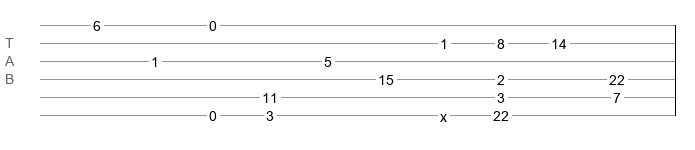0: (209, 108, 217, 118), (209, 18, 217, 28)
1: (151, 54, 159, 64), (440, 36, 448, 46)
11: (262, 90, 278, 100)
14: (551, 36, 567, 46)
15: (378, 72, 394, 82)
2: (497, 72, 505, 82)
22: (493, 108, 509, 118), (609, 72, 625, 82)
3: (266, 108, 274, 118), (497, 90, 505, 100)
5: (324, 54, 332, 64)
6: (93, 18, 101, 28)
7: (613, 90, 621, 100)
8: (497, 36, 505, 46)
x: (440, 109, 447, 117)
